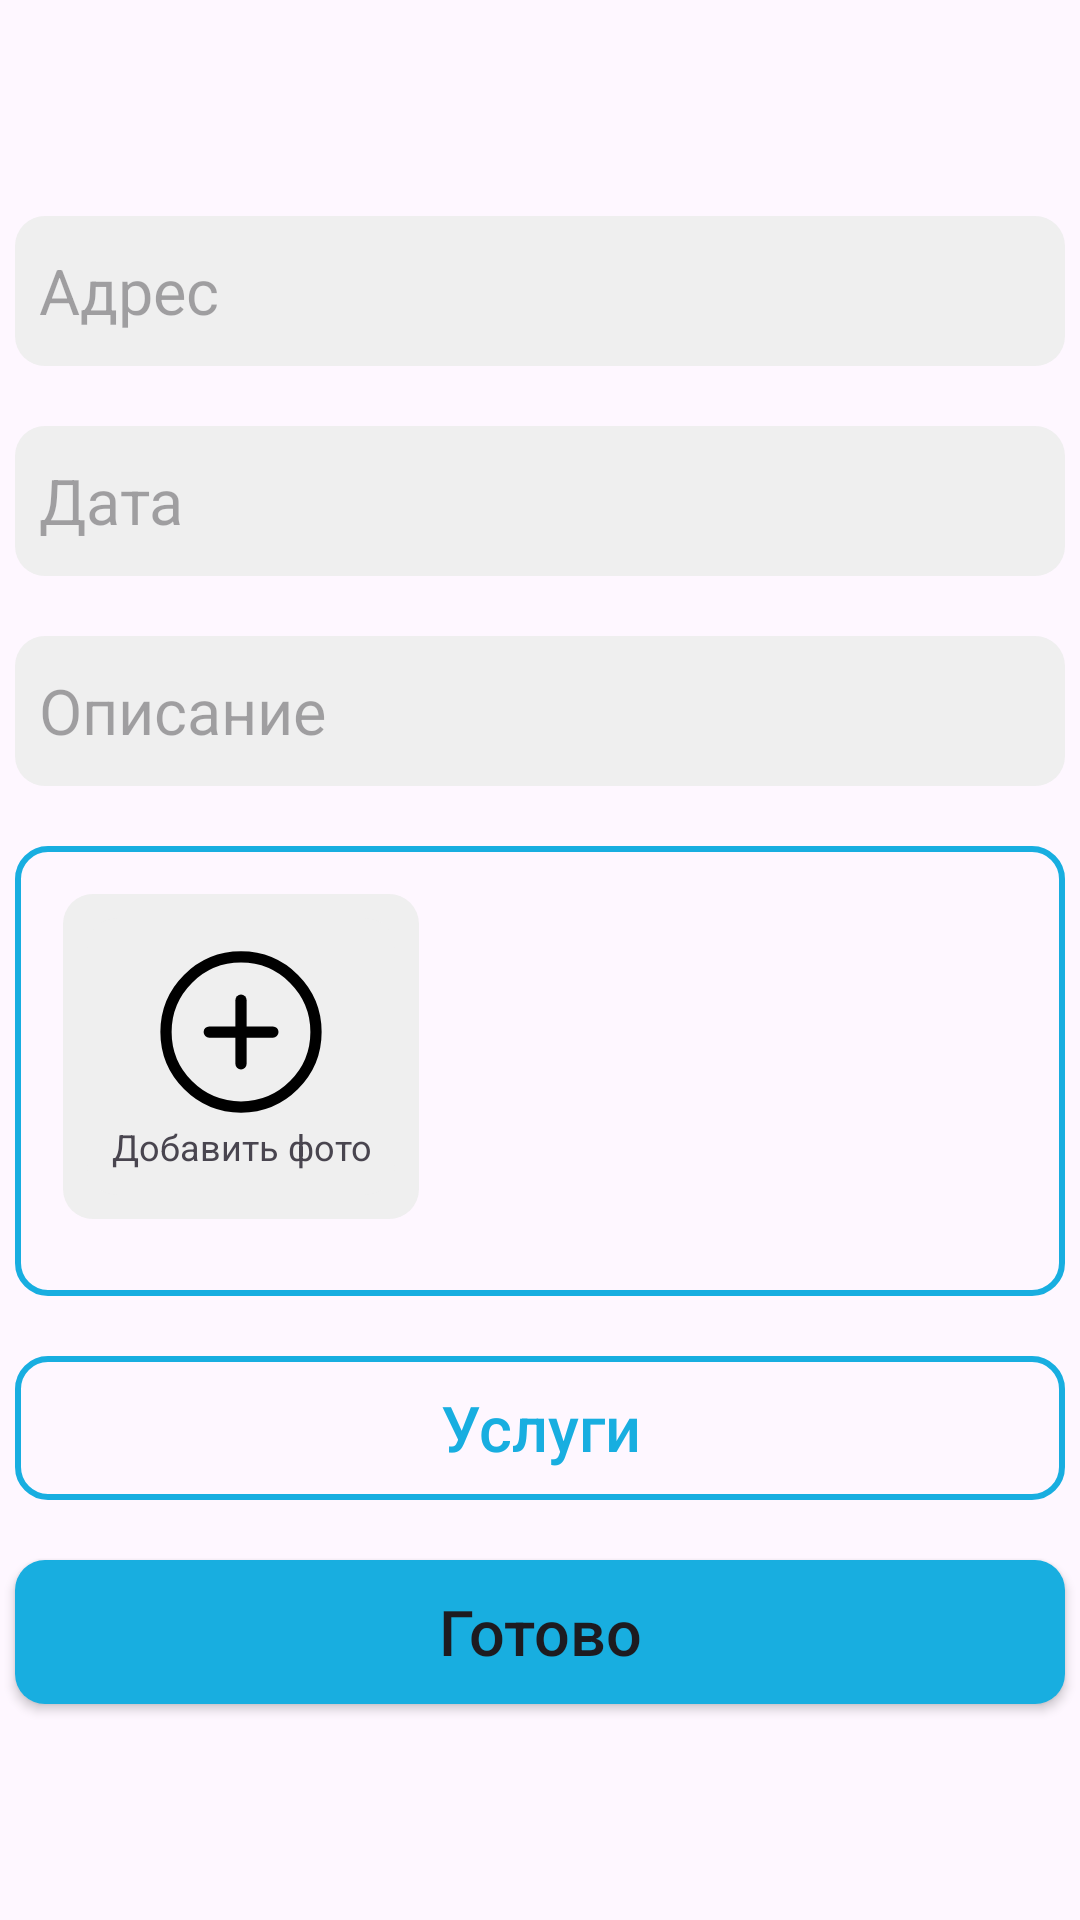

Icon bounding boxes for this 1080 × 1920 phone screenshot, format detection(x1, y1, x2, y2):
add circle: detection(160, 951, 322, 1113)
